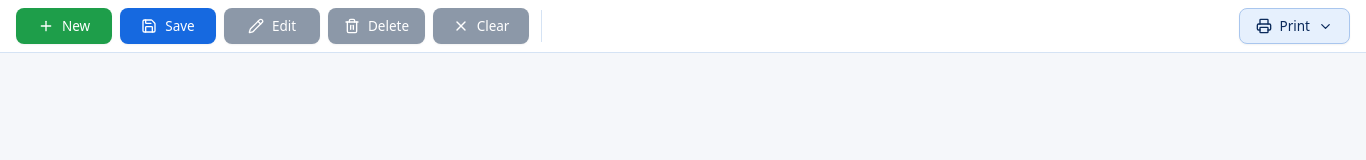
Test: ActionToolbar Print menu › closes on Escape and returns focus to the Print button
This screenshot has width=1366, height=160.
Click the button "Print": click(1294, 26) [1238,8,1350,44]
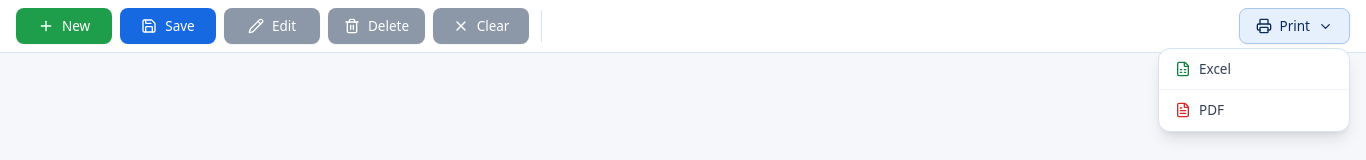
Press Escape
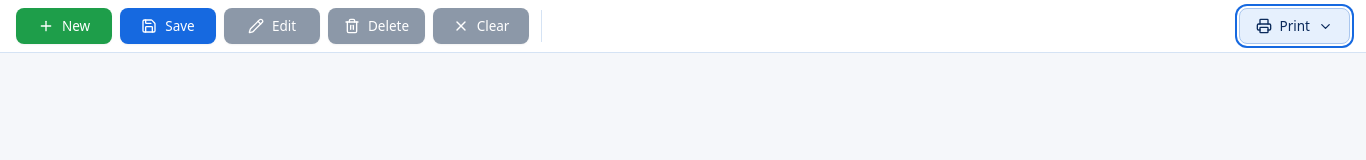
expect the menu is gone: met
